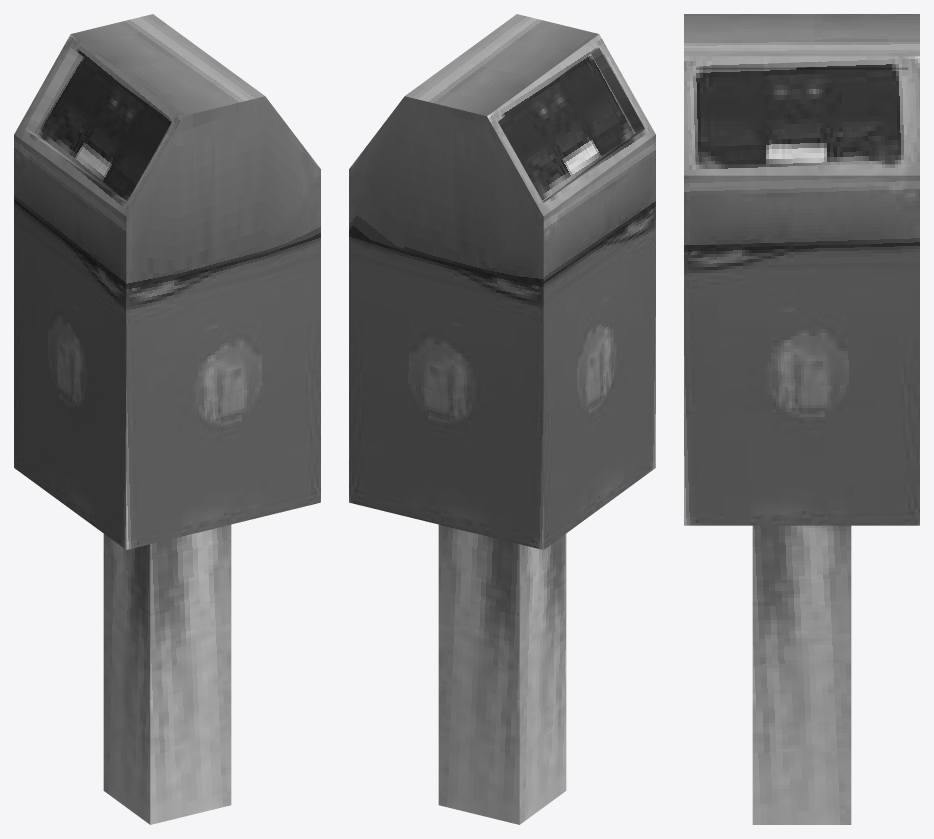
Rendered from bin.glb.
3 renders of one model, left to right at view 1: azimuth 30°, elevation 25°; view 2: azimuth 150°, elevation 25°; view 3: azimuth 270°, elevation 25°, orthographic. The views are drawn at different scales.
Parts seen in each view (by area): view 1: Cube; view 2: Cube; view 3: Cube.
Boxes of the visible parts, x1,y1,x2,y2 form: Cube: (14,14,320,824); Cube: (349,14,655,824); Cube: (684,14,919,824).
Size of the model in its own units: 0.9168 by 3.3 by 0.9168.
Materials: 1 (1 with a texture image).
